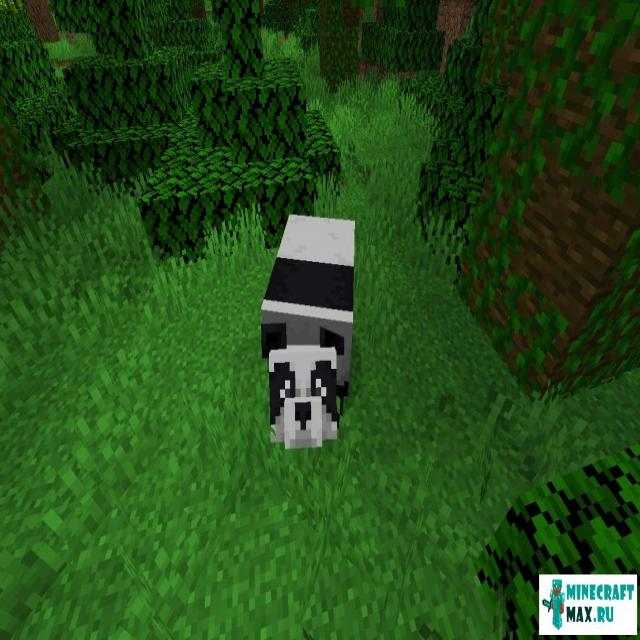Panda: (259, 210, 357, 453)
